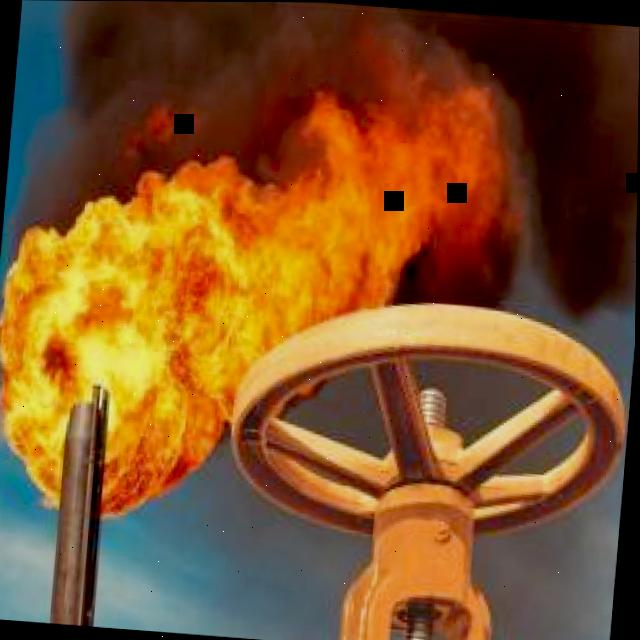fire: (0, 78, 500, 516)
smoke: (13, 0, 640, 323)
